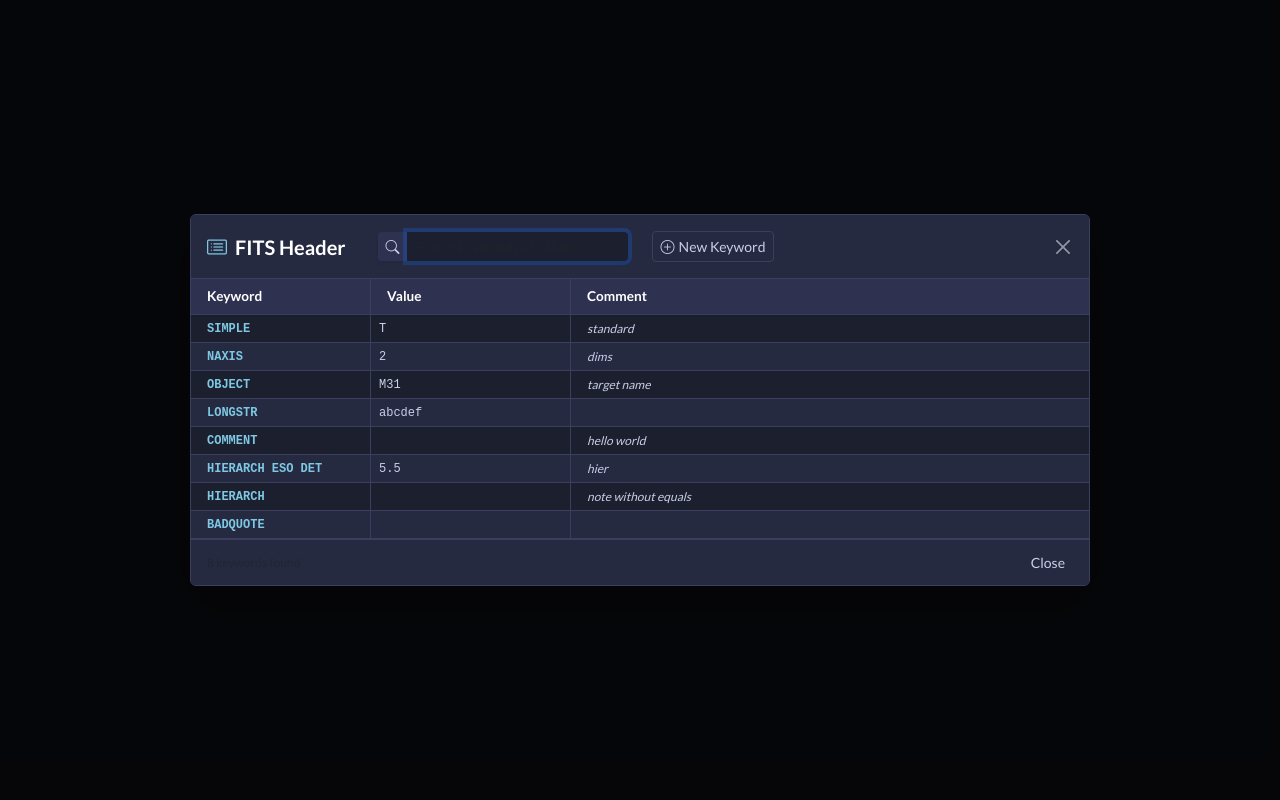
Test: FitsHeaderModal › shows inline feedback when a value update fails
Double-click the element showing "2" at (471, 356), box left=371, top=343, right=571, bottom=370
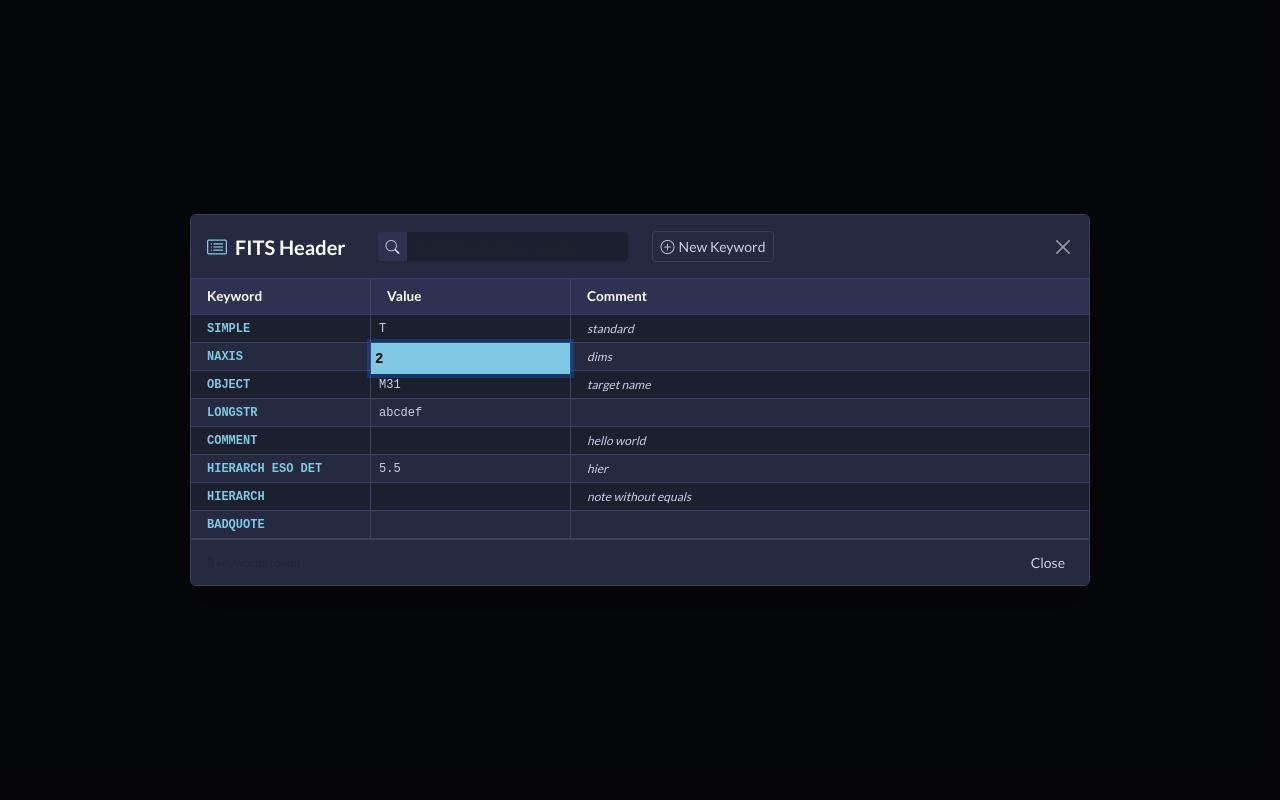
Replace the text in the field showing "2" with "x" at (470, 358), box left=371, top=343, right=570, bottom=374
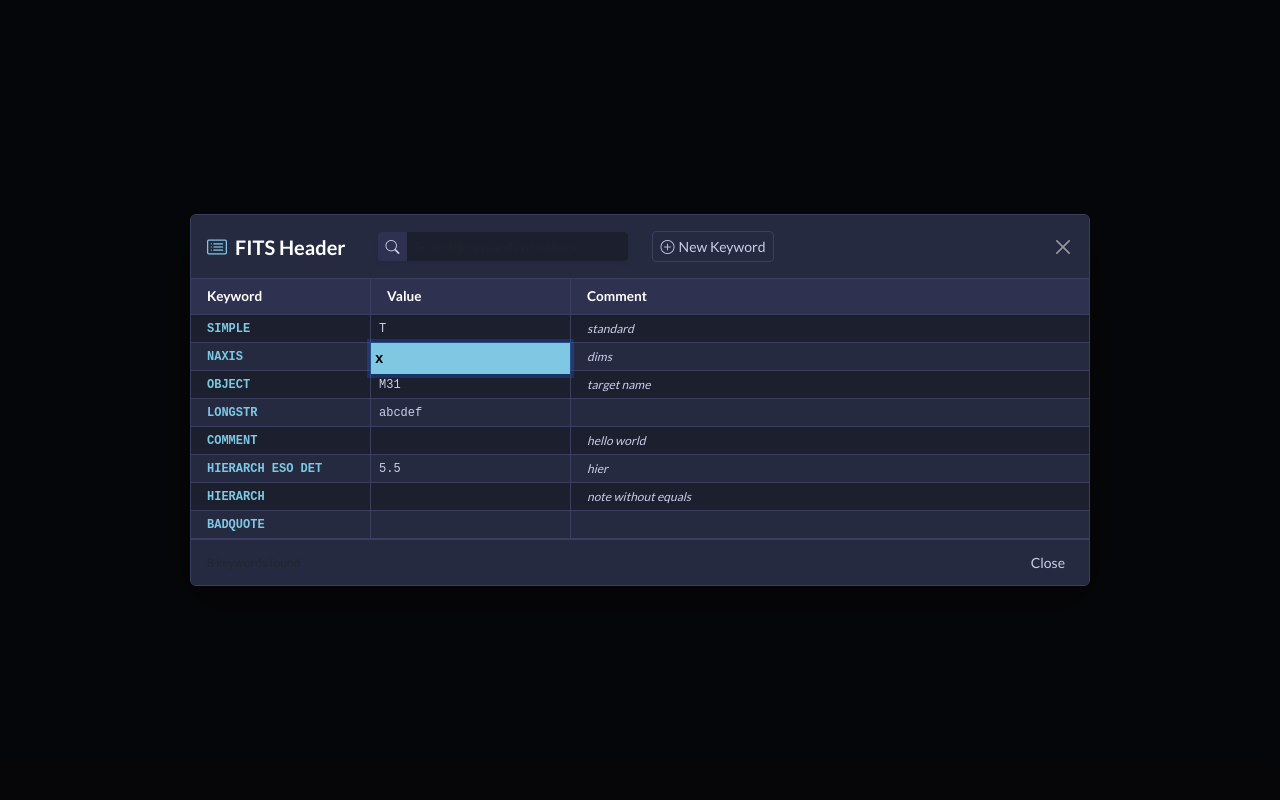
Press Enter in the field showing "x", box left=371, top=343, right=570, bottom=374
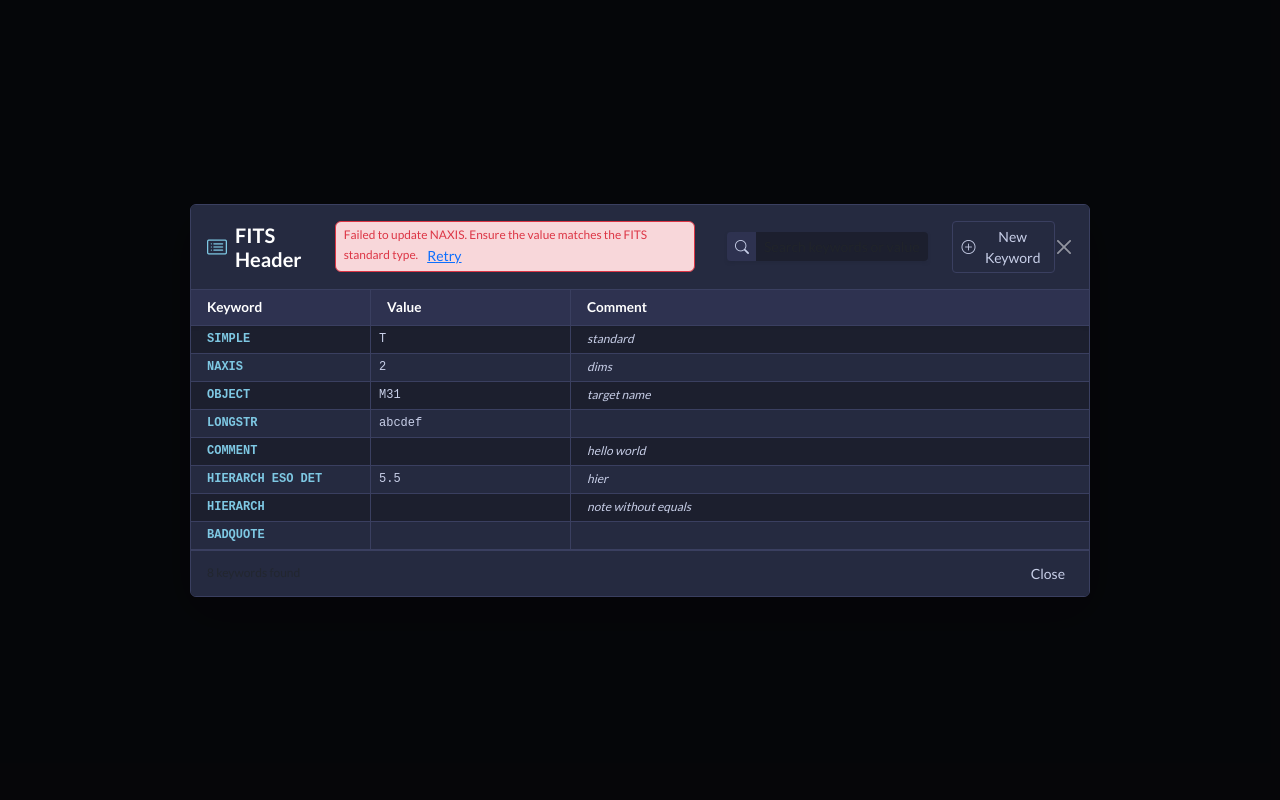
Now the text "Failed to update NAXIS" is shown, box left=344, top=227, right=647, bottom=262
